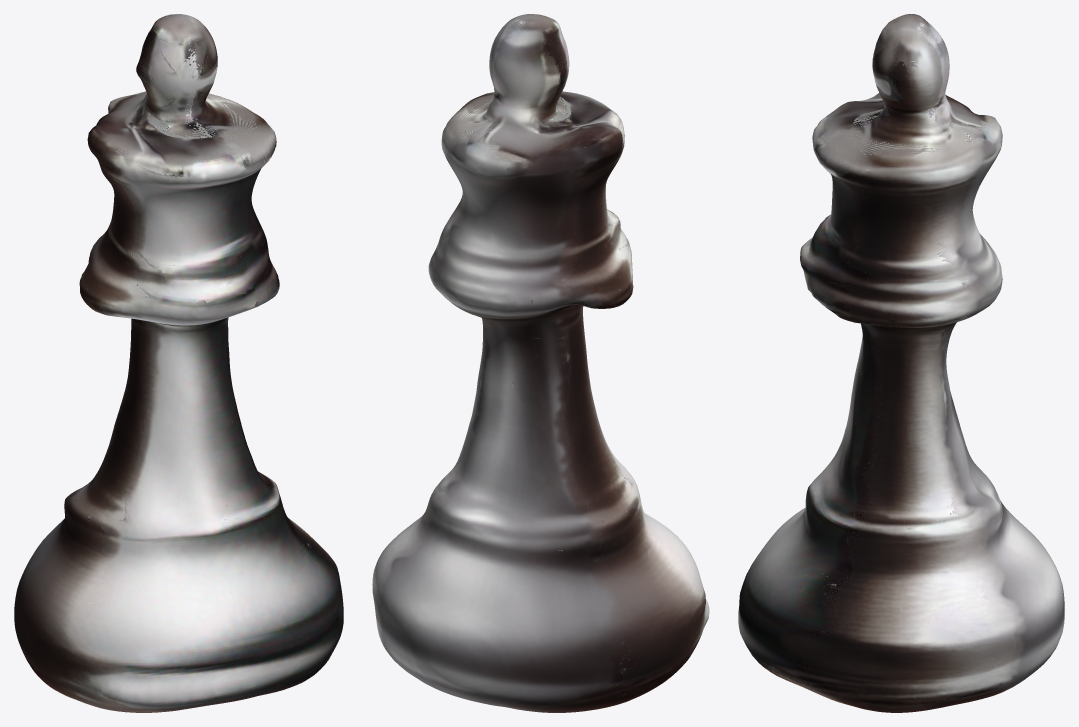
File: KingModel.fbx
3 views of the same model, side by side, from view 1: azimuth 30°, elevation 25°; view 2: azimuth 150°, elevation 25°; view 3: azimuth 270°, elevation 25° (orthographic).
Visible parts, largest first — view 1: A simple King fo obj-re_2hIEUjgSbqB16JE9KeI16jXZU3f; view 2: A simple King fo obj-re_2hIEUjgSbqB16JE9KeI16jXZU3f; view 3: A simple King fo obj-re_2hIEUjgSbqB16JE9KeI16jXZU3f.
Boxes of the visible parts, left/top/right/bottom form: A simple King fo obj-re_2hIEUjgSbqB16JE9KeI16jXZU3f: left=14, top=14, right=343, bottom=712; A simple King fo obj-re_2hIEUjgSbqB16JE9KeI16jXZU3f: left=372, top=14, right=709, bottom=712; A simple King fo obj-re_2hIEUjgSbqB16JE9KeI16jXZU3f: left=738, top=14, right=1064, bottom=712.
Bounding box in the file's own units: 42.28 × 92.83 × 42.45.
Materials: 1 (1 with a texture image).
